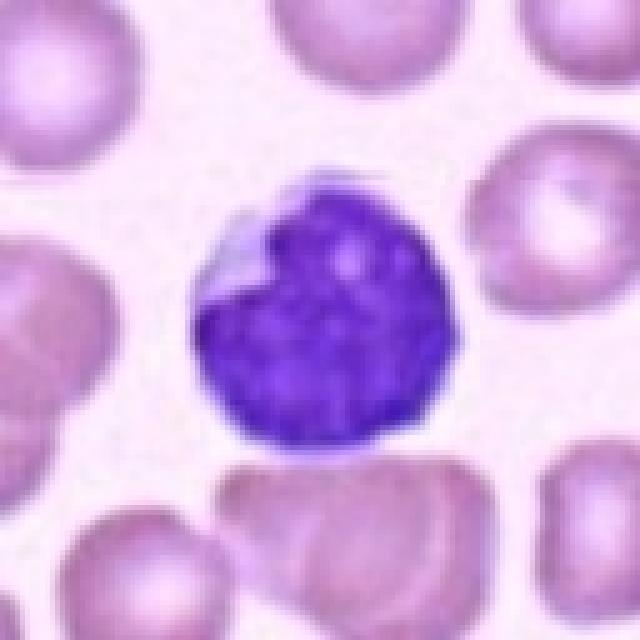lympho: (183, 165, 463, 454)
